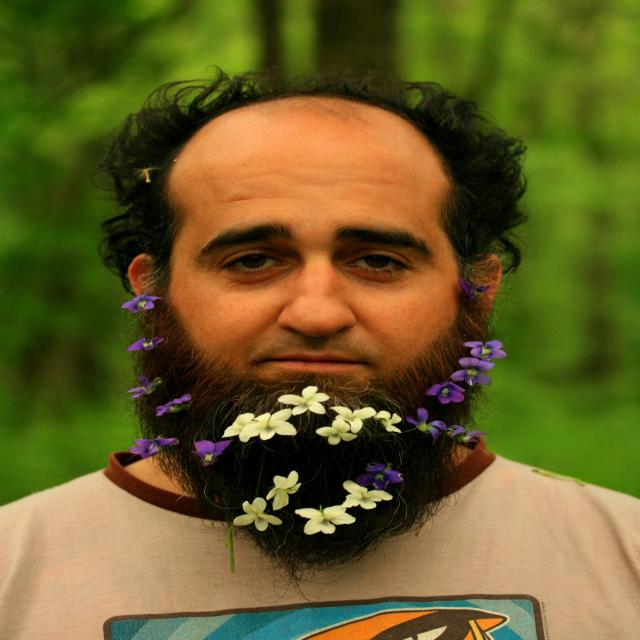Eyebags: (218, 269, 293, 293), (337, 270, 406, 291)
